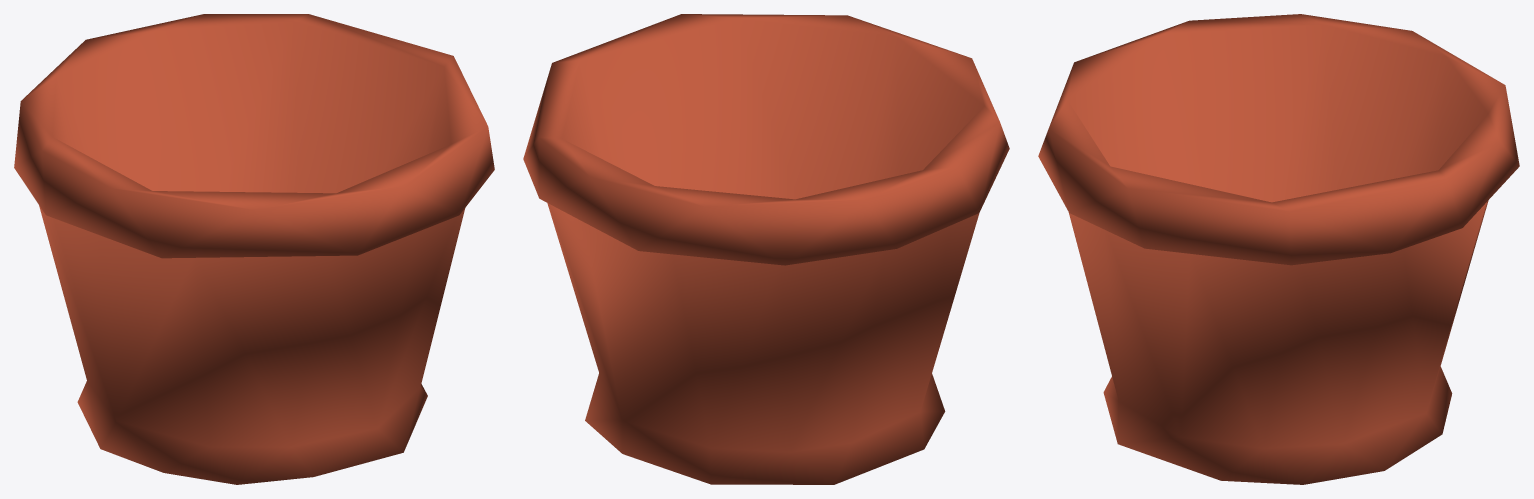
The model's file is PotDec.fbx.
3 renders of one model, left to right at view 1: azimuth 30°, elevation 25°; view 2: azimuth 150°, elevation 25°; view 3: azimuth 270°, elevation 25°, orthographic.
Visible parts, largest first — view 1: PotDec; view 2: PotDec; view 3: PotDec.
Part boxes in pixels (x1,y1,x2,y2): PotDec: (14, 14, 494, 484); PotDec: (523, 14, 1009, 484); PotDec: (1038, 14, 1519, 484).
Bounding box in the file's own units: 414 × 416 × 287.
